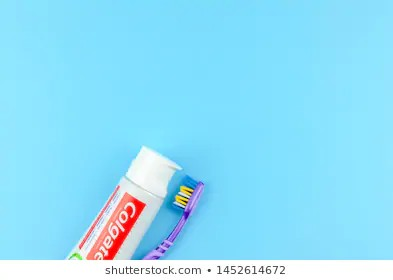toothbrush: (164, 171, 214, 260)
